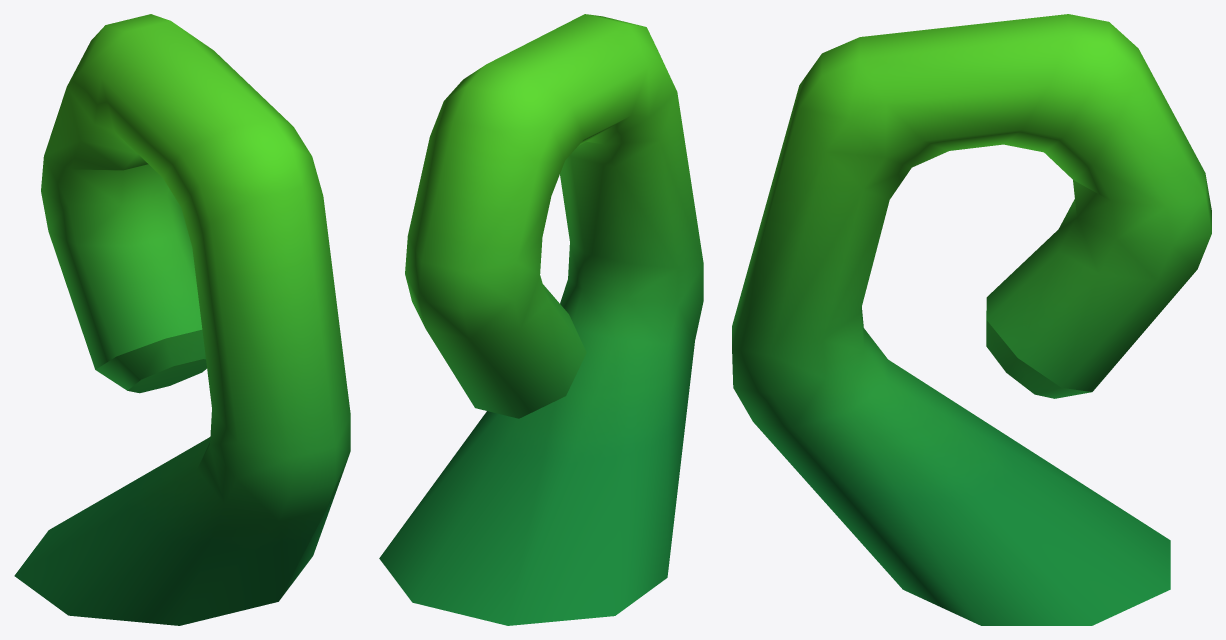
File: Vine_2_1.glb
3 views of the same model, side by side, from view 1: azimuth 30°, elevation 25°; view 2: azimuth 150°, elevation 25°; view 3: azimuth 270°, elevation 25° (orthographic). The views are drawn at different scales.
Parts seen in each view (by area): view 1: Vine_2_1; view 2: Vine_2_1; view 3: Vine_2_1.
Part boxes in pixels (x1=…): Vine_2_1: x1=14, y1=14, x2=350, y2=625; Vine_2_1: x1=379, y1=14, x2=703, y2=625; Vine_2_1: x1=732, y1=14, x2=1211, y2=625.
Bounding box in the file's own units: 0.1341 × 0.2766 × 0.2229.
1 material, 1 textured.
